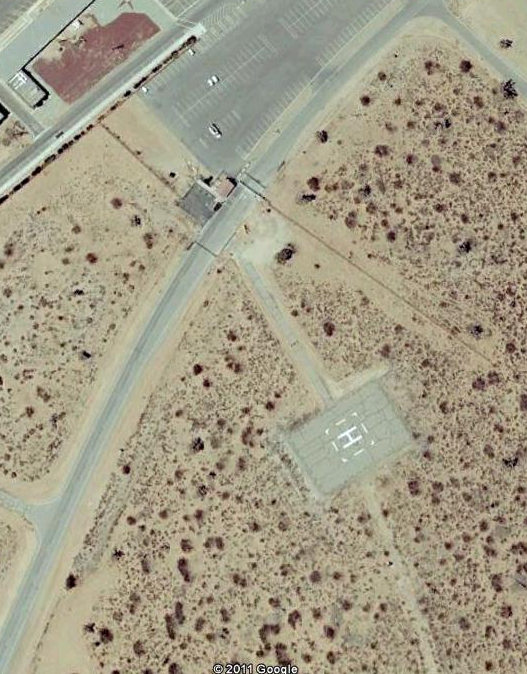heliport: (332, 426, 363, 450)
